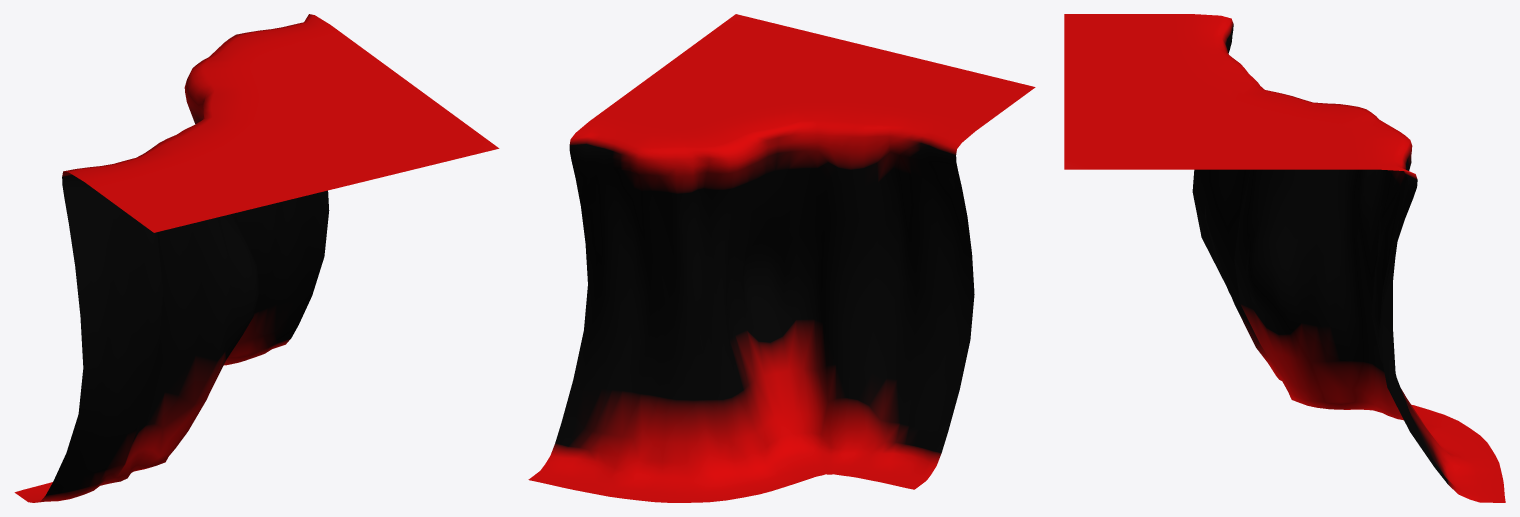
Rendered from GroundCliff05D 2M Foreground.fbx.
3 renders of one model, left to right at view 1: azimuth 30°, elevation 25°; view 2: azimuth 150°, elevation 25°; view 3: azimuth 270°, elevation 25°, orthographic. The views are drawn at different scales.
Visible parts, largest first — view 1: GroundCliff05D 2M Foreground; view 2: GroundCliff05D 2M Foreground; view 3: GroundCliff05D 2M Foreground.
Boxes of the visible parts, left/top/right/bottom form: GroundCliff05D 2M Foreground: left=14, top=14, right=499, bottom=502; GroundCliff05D 2M Foreground: left=528, top=14, right=1035, bottom=502; GroundCliff05D 2M Foreground: left=1064, top=14, right=1505, bottom=502.
Bounding box in the file's own units: 2 × 2 × 2.4.
